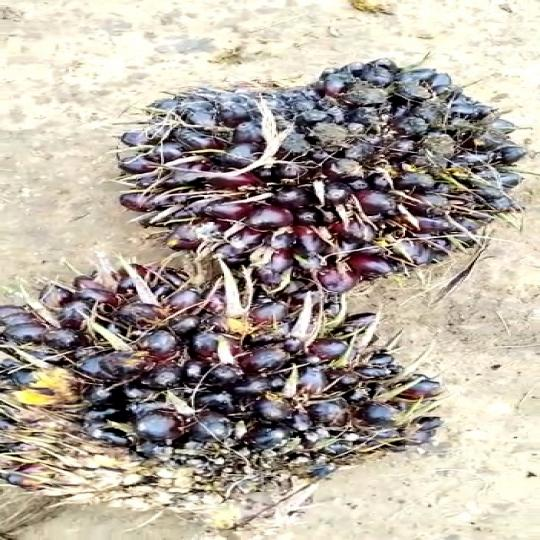mentah: (1, 262, 469, 510), (114, 57, 540, 307)
